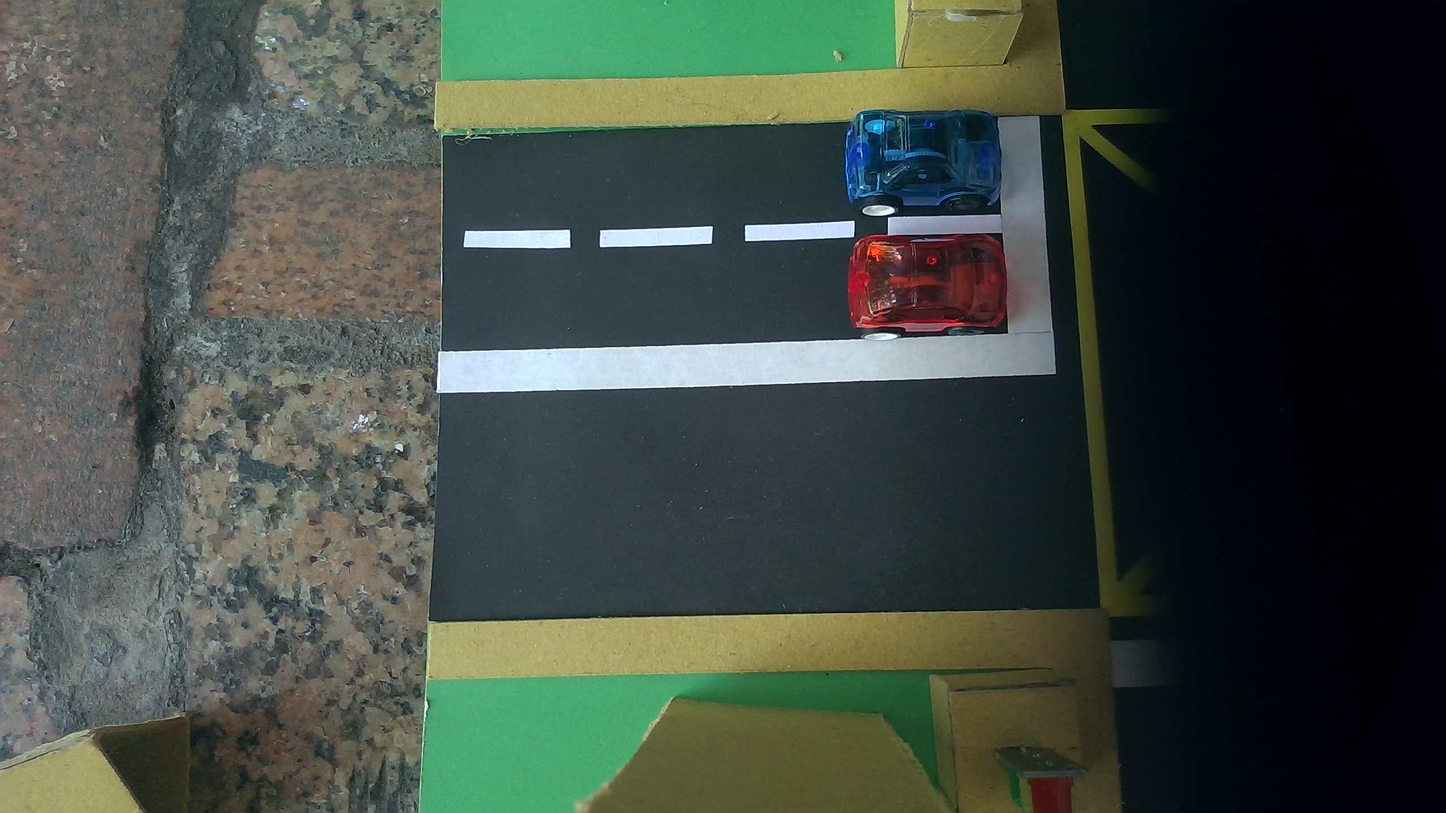Mobil biru: (844, 110, 1001, 216)
Mobil merah: (847, 235, 1008, 340)
